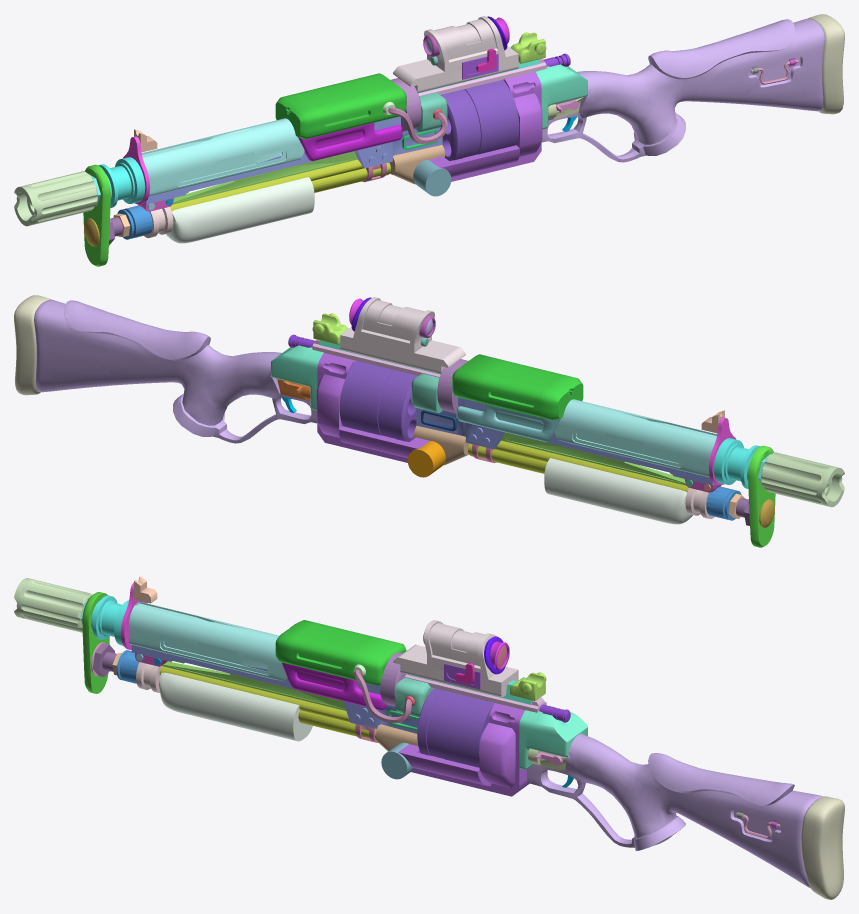
3 renders of one model, top to bottom at view 1: azimuth 30°, elevation 25°; view 2: azimuth 150°, elevation 25°; view 3: azimuth 330°, elevation 25°, orthographic.
Visible parts, largest first — view 1: split_parent_11, Gun_Final_AO_0.128, Gun_Final_AO_0.108, Gun_Final_AO_0.038, Gun_Final_AO_0.418, split_parent_63, Gun_Final_AO_0.069, Gun_Final_AO_0.009, Gun_Final_AO_0, Gun_Final_AO_0.306, Gun_Final_AO_0.110, Gun_Final_AO_0.369 (+14 smaller); view 2: split_parent_11, Gun_Final_AO_0.128, Gun_Final_AO_0.108, Gun_Final_AO_0.038, split_parent_63, Gun_Final_AO_0.418, Gun_Final_AO_0.069, Gun_Final_AO_0.009, Gun_Final_AO_0, Gun_Final_AO_0.306, Gun_Final_AO_0.111, Gun_Final_AO_0.369 (+14 smaller); view 3: split_parent_11, Gun_Final_AO_0.128, Gun_Final_AO_0.038, Gun_Final_AO_0.069, Gun_Final_AO_0.108, split_parent_63, Gun_Final_AO_0.418, Gun_Final_AO_0.369, Gun_Final_AO_0.009, Gun_Final_AO_0.085, Gun_Final_AO_0.306, Gun_Final_AO_0 (+12 smaller).
Boxes of the visible parts, x1,y1,x2,y2 form: split_parent_11: (541, 18, 824, 162); Gun_Final_AO_0.128: (141, 118, 304, 196); Gun_Final_AO_0.108: (275, 73, 406, 139); Gun_Final_AO_0.038: (166, 177, 314, 243); Gun_Final_AO_0.418: (441, 79, 519, 160); split_parent_63: (393, 16, 518, 92); Gun_Final_AO_0.069: (429, 72, 542, 181); Gun_Final_AO_0.009: (14, 171, 97, 226); Gun_Final_AO_0: (144, 116, 442, 204); Gun_Final_AO_0.306: (170, 159, 390, 211); Gun_Final_AO_0.110: (298, 123, 402, 161); Gun_Final_AO_0.369: (808, 14, 844, 114); split_parent_11: (34, 299, 317, 443); Gun_Final_AO_0.128: (554, 399, 717, 477); Gun_Final_AO_0.108: (452, 354, 583, 420); Gun_Final_AO_0.038: (544, 458, 692, 524); split_parent_63: (340, 297, 465, 373); Gun_Final_AO_0.418: (339, 360, 417, 441); Gun_Final_AO_0.069: (316, 353, 429, 462); Gun_Final_AO_0.009: (761, 452, 844, 507); Gun_Final_AO_0: (416, 397, 714, 485); Gun_Final_AO_0.306: (468, 440, 688, 492); Gun_Final_AO_0.111: (456, 404, 560, 442); Gun_Final_AO_0.369: (14, 295, 50, 395); split_parent_11: (527, 734, 822, 888); Gun_Final_AO_0.128: (129, 602, 287, 681); Gun_Final_AO_0.038: (159, 672, 312, 741); Gun_Final_AO_0.069: (398, 703, 529, 796); Gun_Final_AO_0.108: (275, 620, 406, 686); split_parent_63: (393, 620, 518, 697); Gun_Final_AO_0.418: (417, 688, 494, 767); Gun_Final_AO_0.369: (801, 796, 844, 899); Gun_Final_AO_0.009: (14, 578, 92, 632); Gun_Final_AO_0.085: (519, 710, 587, 769); Gun_Final_AO_0.306: (159, 666, 376, 740); Gun_Final_AO_0: (131, 645, 418, 733).
Bounding box in the file's own units: 1 × 0.2095 × 0.0965.
